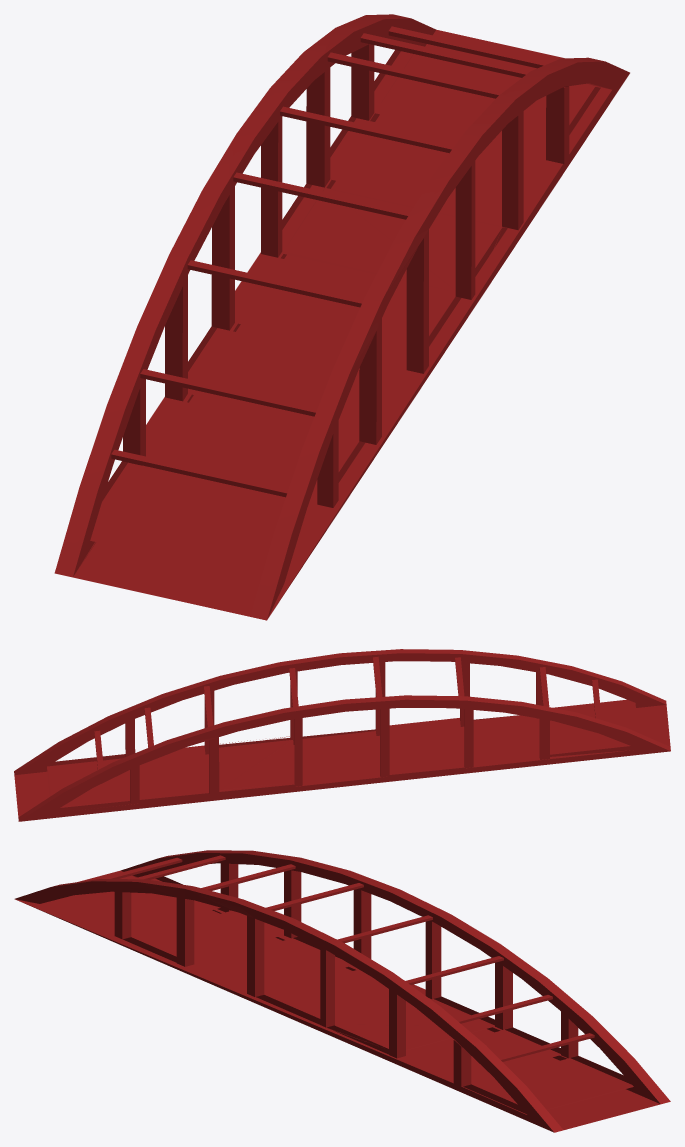
3 views of the same model, one above another, from view 1: azimuth 30°, elevation 25°; view 2: azimuth 150°, elevation 25°; view 3: azimuth 270°, elevation 25° (orthographic). The views are drawn at different scales.
Visible parts, largest first — view 1: SketchUp (×6); view 2: SketchUp (×6); view 3: SketchUp (×6).
Boxes of the visible parts, x1=… form: SketchUp (×6): x1=54, y1=14, x2=629, y2=620; SketchUp (×6): x1=14, y1=649, x2=670, y2=821; SketchUp (×6): x1=14, y1=850, x2=670, y2=1132.
Size of the model in its own units: 5166 by 5415 by 864.
